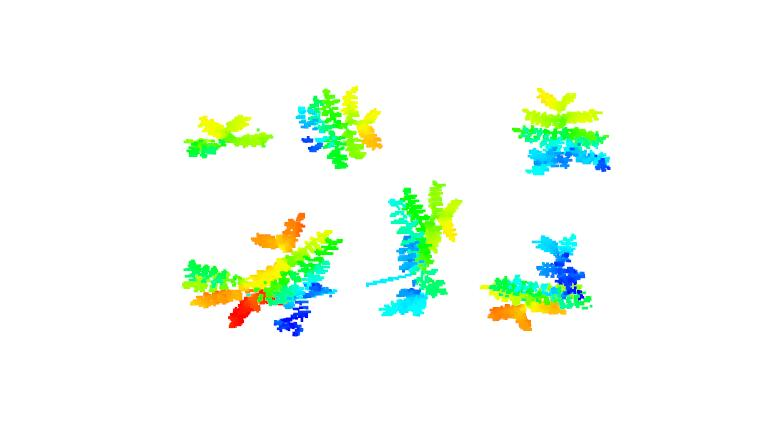chickpea: (362, 179, 464, 321), (249, 216, 341, 339), (515, 88, 619, 179), (179, 255, 294, 336), (295, 81, 385, 169), (482, 278, 572, 335), (532, 231, 593, 312), (180, 113, 275, 161)
